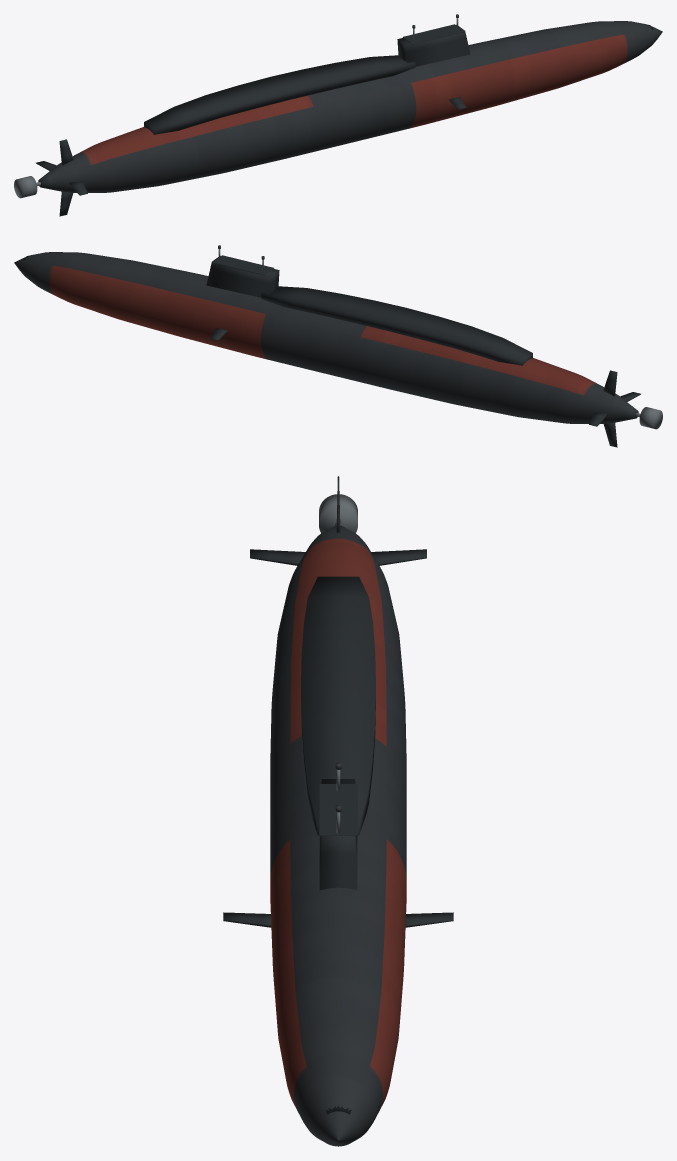
Rendered from CN_SSBN_Type094.glb.
The picture shows the model from 3 angles, top to bottom: view 1: azimuth 30°, elevation 25°; view 2: azimuth 150°, elevation 25°; view 3: azimuth 270°, elevation 25°; orthographic projection. The views are drawn at different scales.
Visible parts, largest first — view 1: CN_SSBN_Type094_LOD0; view 2: CN_SSBN_Type094_LOD0; view 3: CN_SSBN_Type094_LOD0.
Part boxes in pixels (box(x1,y1,x2,y2)): CN_SSBN_Type094_LOD0: box(14, 14, 662, 216); CN_SSBN_Type094_LOD0: box(14, 245, 662, 447); CN_SSBN_Type094_LOD0: box(223, 476, 453, 1146).
Bounding box in the file's own units: 142 × 21.93 × 21.95.
6 materials, 1 textured.
